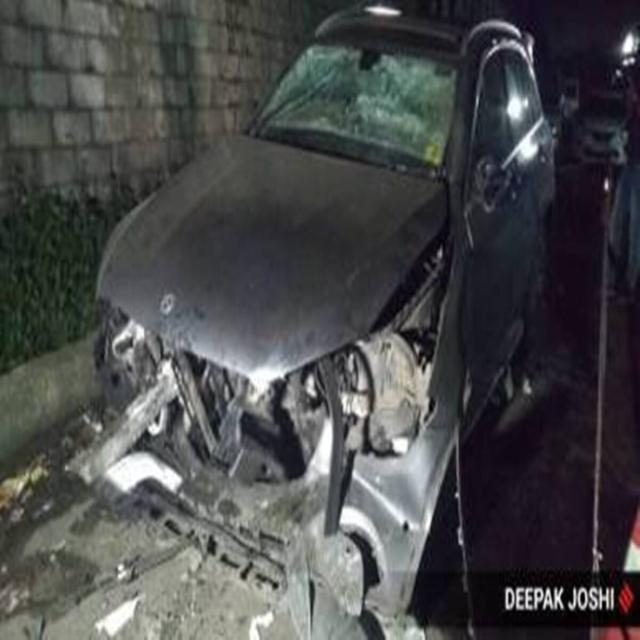accident: (91, 18, 552, 608)
